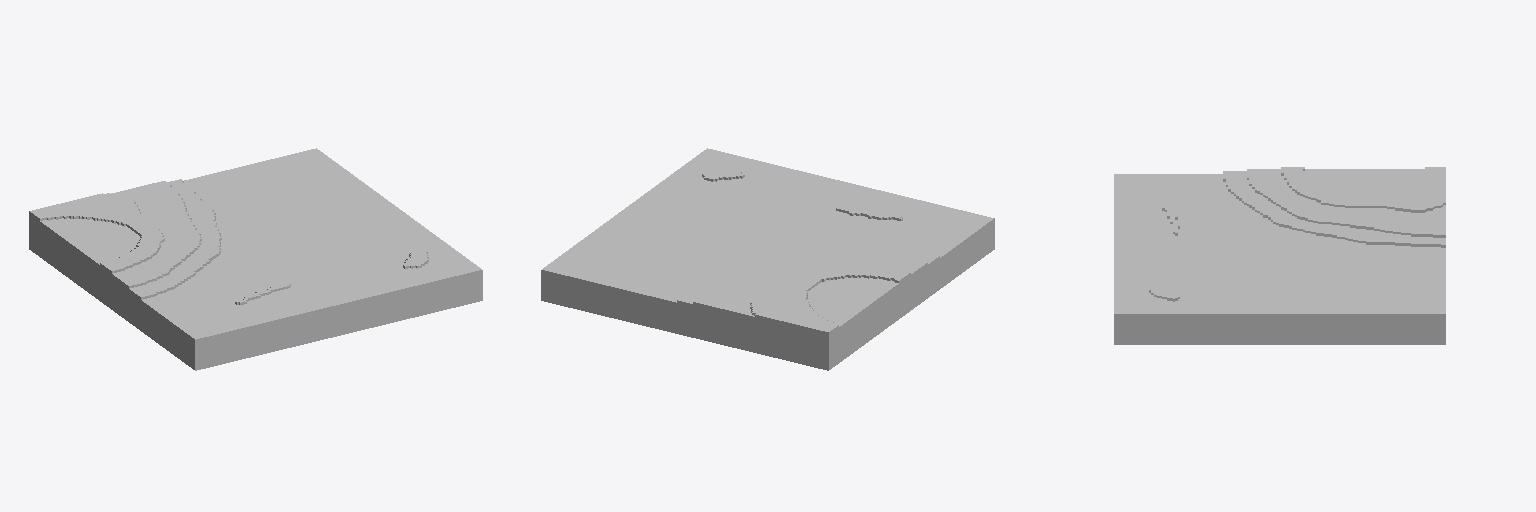
Rendered from Map (6).obj.
3 views of the same model, side by side, from view 1: azimuth 30°, elevation 25°; view 2: azimuth 150°, elevation 25°; view 3: azimuth 270°, elevation 25° (orthographic).
Visible parts, largest first — view 1: ALL MAP!!!!!!!!!!!-3; view 2: ALL MAP!!!!!!!!!!!-3; view 3: ALL MAP!!!!!!!!!!!-3.
Boxes of the visible parts, box(x1,y1,x2,y2) form: ALL MAP!!!!!!!!!!!-3: box(29, 148, 482, 370); ALL MAP!!!!!!!!!!!-3: box(541, 148, 994, 370); ALL MAP!!!!!!!!!!!-3: box(1114, 167, 1445, 344).
Size of the model in its own units: 125 by 16 by 125.